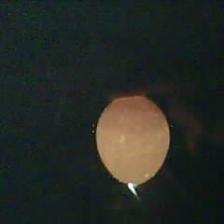infertile: (95, 95, 171, 186)
